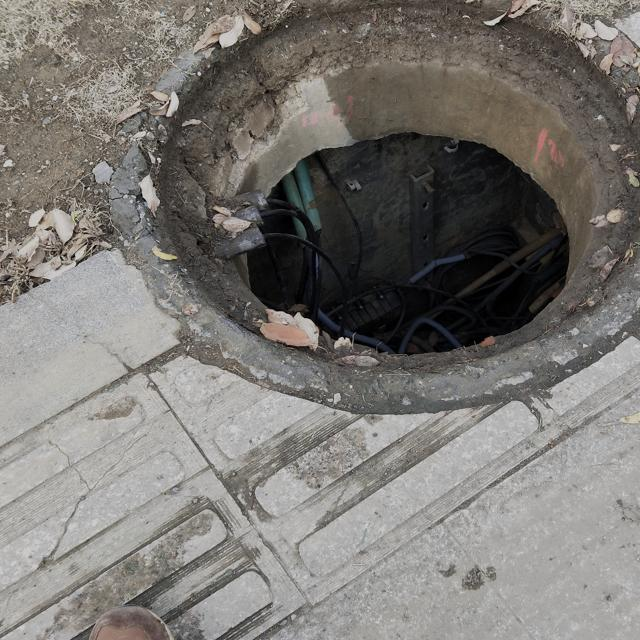uncovered: (116, 0, 640, 414)
